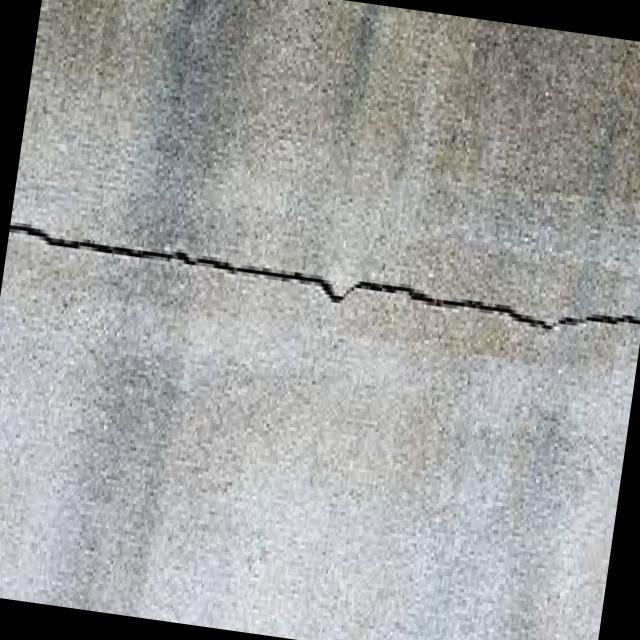crack: (6, 211, 640, 345)
